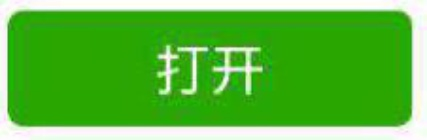Button: (1, 1, 426, 139)
